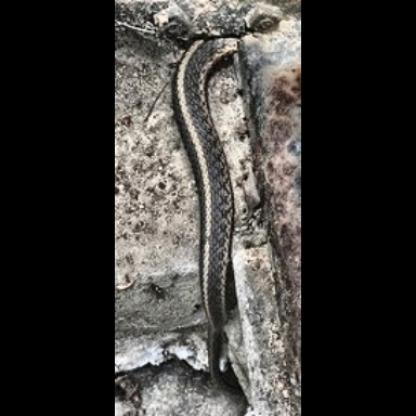Snake: (167, 26, 244, 409)
